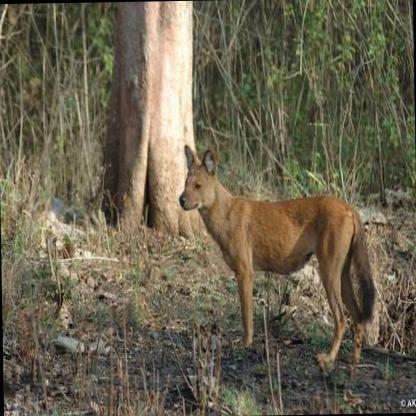dhole: (176, 136, 378, 377)
